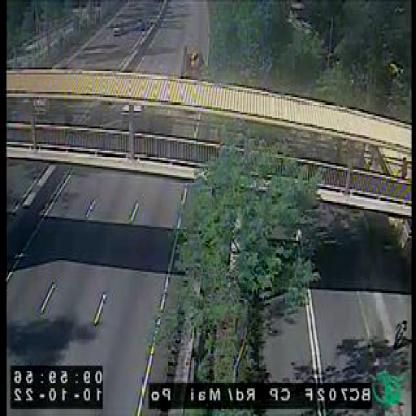Car: (110, 22, 124, 37)
